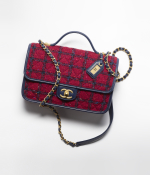channel: (18, 32, 128, 128), (41, 43, 62, 94), (57, 82, 78, 103)
